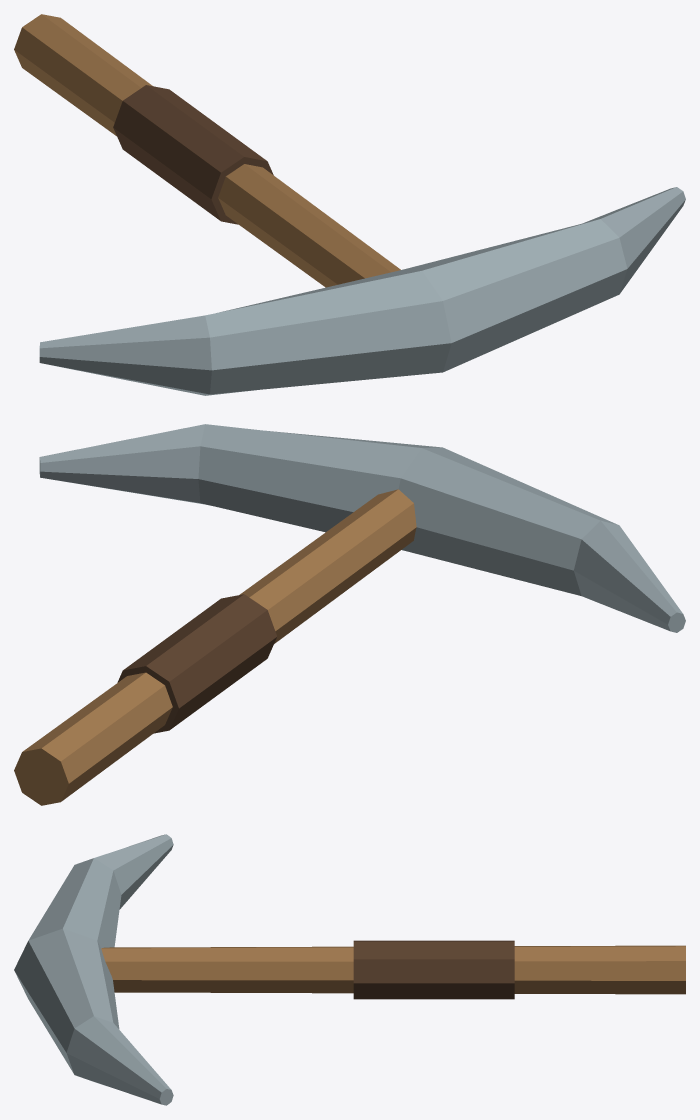
Rendered from pickaxe.glb.
3 renders of one model, top to bottom at view 1: azimuth 30°, elevation 25°; view 2: azimuth 150°, elevation 25°; view 3: azimuth 270°, elevation 25°, orthographic. The views are drawn at different scales.
Parts seen in each view (by area): view 1: pickaxe.001; view 2: pickaxe.001; view 3: pickaxe.001.
Part boxes in pixels (x1,y1,x2,y2): pickaxe.001: [14, 14, 685, 395]; pickaxe.001: [14, 424, 685, 805]; pickaxe.001: [14, 834, 685, 1105].
Bounding box in the file's own units: 0.5886 × 0.088 × 0.647.
